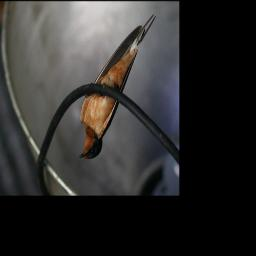Swallow: (75, 13, 160, 163)
